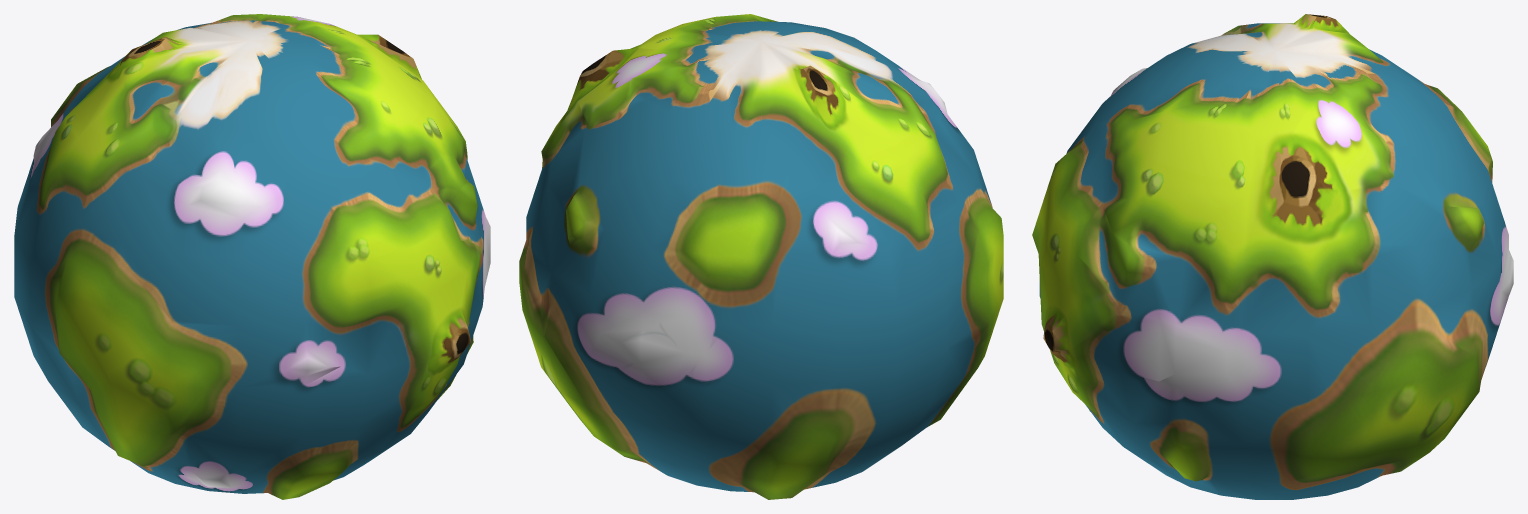
Rendered from Earth.FBX.
3 renders of one model, left to right at view 1: azimuth 30°, elevation 25°; view 2: azimuth 150°, elevation 25°; view 3: azimuth 270°, elevation 25°, orthographic.
Visible parts, largest first — view 1: Earth; view 2: Earth; view 3: Earth.
Part boxes in pixels (box(x1,y1,x2,y2)): Earth: box(14, 14, 490, 499); Earth: box(519, 14, 1003, 499); Earth: box(1032, 14, 1513, 499).
Bounding box in the file's own units: 140 × 141 × 142.
